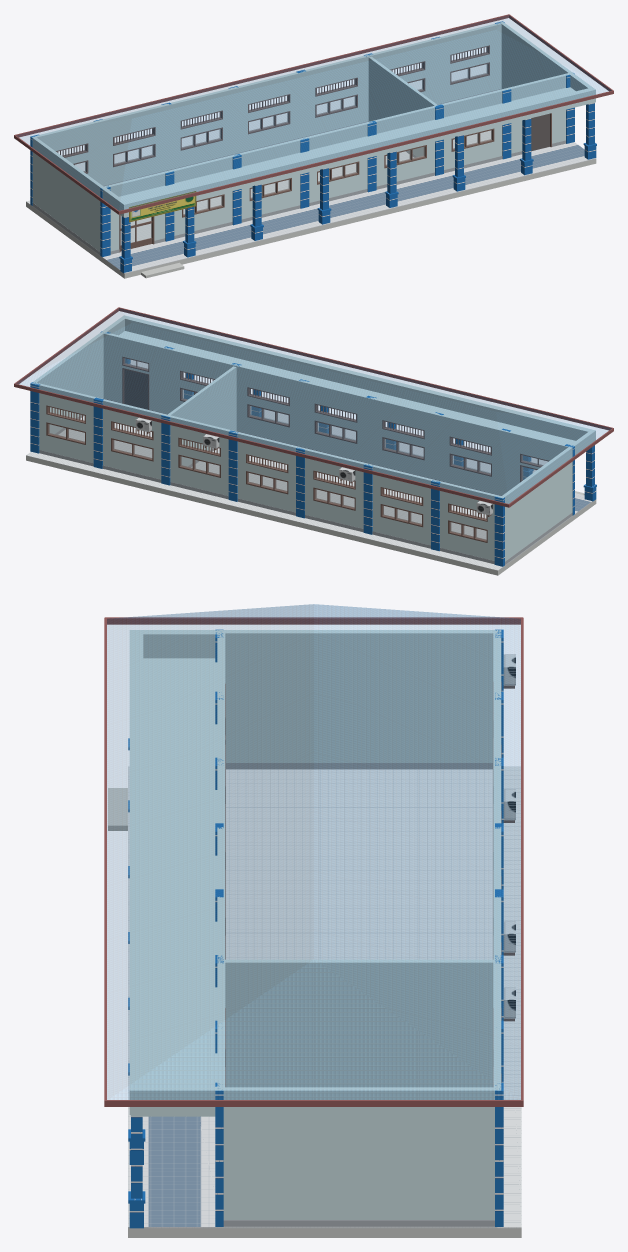
The model's file is gedung_perpustakaan_cutaway.glb.
The picture shows the model from 3 angles, top to bottom: view 1: azimuth 30°, elevation 25°; view 2: azimuth 150°, elevation 25°; view 3: azimuth 270°, elevation 25°; orthographic projection. The views are drawn at different scales.
Visible parts, largest first — view 1: Dinding_BiruLangit_Pucat, Atap_Genteng_Biru, Lantai_Teras_Jalur_BiruAbu, Pilaster_Dan_Tiang_Biru, Kusen_Jendela_Dan_Pintu, Lisplang_Marun_Atap, Kaca_Jendela_Transparan, Apron_Beton_Perpustakaan, Plint_Dinding_Abu, Lantai_2_Ruangan_Kosong, Papan_Nama_PERPUSTAKAAN, Daun_Pintu_Ruang_2; view 2: Dinding_BiruLangit_Pucat, Atap_Genteng_Biru, Kusen_Jendela_Dan_Pintu, Pilaster_Dan_Tiang_Biru, Lisplang_Marun_Atap, Kaca_Jendela_Transparan, Apron_Beton_Perpustakaan, Ledge_Keramik_Putih_Belakang, Lantai_2_Ruangan_Kosong, Plint_Dinding_Abu, Daun_Pintu_Ruang_2, Unit_AC_Outdoor_Belakang; view 3: Atap_Genteng_Biru, Dinding_BiruLangit_Pucat, Lantai_2_Ruangan_Kosong, Lisplang_Marun_Atap, Lantai_Teras_Jalur_BiruAbu, Ledge_Keramik_Putih_Belakang, Pilaster_Dan_Tiang_Biru, Apron_Beton_Perpustakaan, Plint_Dinding_Abu, Unit_AC_Outdoor_Belakang, Kusen_Jendela_Dan_Pintu.
Boxes of the visible parts, x1=… form: Dinding_BiruLangit_Pucat: x1=32, y1=22, x2=595, y2=251; Atap_Genteng_Biru: x1=17, y1=15, x2=611, y2=210; Lantai_Teras_Jalur_BiruAbu: x1=101, y1=142, x2=596, y2=273; Pilaster_Dan_Tiang_Biru: x1=30, y1=21, x2=596, y2=273; Kusen_Jendela_Dan_Pintu: x1=56, y1=45, x2=551, y2=252; Lisplang_Marun_Atap: x1=14, y1=14, x2=613, y2=214; Kaca_Jendela_Transparan: x1=75, y1=64, x2=491, y2=245; Apron_Beton_Perpustakaan: x1=26, y1=159, x2=596, y2=278; Plint_Dinding_Abu: x1=32, y1=89, x2=565, y2=254; Lantai_2_Ruangan_Kosong: x1=32, y1=130, x2=490, y2=256; Papan_Nama_PERPUSTAKAAN: x1=129, y1=191, x2=196, y2=222; Daun_Pintu_Ruang_2: x1=531, y1=113, x2=549, y2=151; Dinding_BiruLangit_Pucat: x1=31, y1=315, x2=595, y2=561; Atap_Genteng_Biru: x1=16, y1=308, x2=610, y2=503; Kusen_Jendela_Dan_Pintu: x1=46, y1=356, x2=549, y2=542; Pilaster_Dan_Tiang_Biru: x1=30, y1=331, x2=596, y2=566; Lisplang_Marun_Atap: x1=14, y1=307, x2=613, y2=507; Kaca_Jendela_Transparan: x1=48, y1=358, x2=547, y2=540; Apron_Beton_Perpustakaan: x1=26, y1=456, x2=596, y2=575; Ledge_Keramik_Putih_Belakang: x1=26, y1=452, x2=503, y2=570; Lantai_2_Ruangan_Kosong: x1=58, y1=416, x2=572, y2=566; Plint_Dinding_Abu: x1=39, y1=398, x2=572, y2=564; Daun_Pintu_Ruang_2: x1=124, y1=369, x2=147, y2=409; Unit_AC_Outdoor_Belakang: x1=135, y1=417, x2=492, y2=515; Atap_Genteng_Biru: x1=107, y1=604, x2=520, y2=1099; Dinding_BiruLangit_Pucat: x1=129, y1=630, x2=501, y2=1219; Lantai_2_Ruangan_Kosong: x1=221, y1=769, x2=497, y2=1228; Lisplang_Marun_Atap: x1=104, y1=617, x2=523, y2=1106; Lantai_Teras_Jalur_BiruAbu: x1=128, y1=766, x2=221, y2=1228; Ledge_Keramik_Putih_Belakang: x1=497, y1=766, x2=521, y2=1228; Pilaster_Dan_Tiang_Biru: x1=128, y1=629, x2=503, y2=1228; Apron_Beton_Perpustakaan: x1=108, y1=788, x2=521, y2=1237; Plint_Dinding_Abu: x1=223, y1=763, x2=494, y2=1226; Unit_AC_Outdoor_Belakang: x1=503, y1=654, x2=515, y2=1018; Kusen_Jendela_Dan_Pintu: x1=225, y1=682, x2=514, y2=1087.
Bounding box in the file's own units: 25.72 × 5.6 × 9.42.
14 materials, 7 textured.
